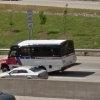Bus: (12, 37, 78, 73)
